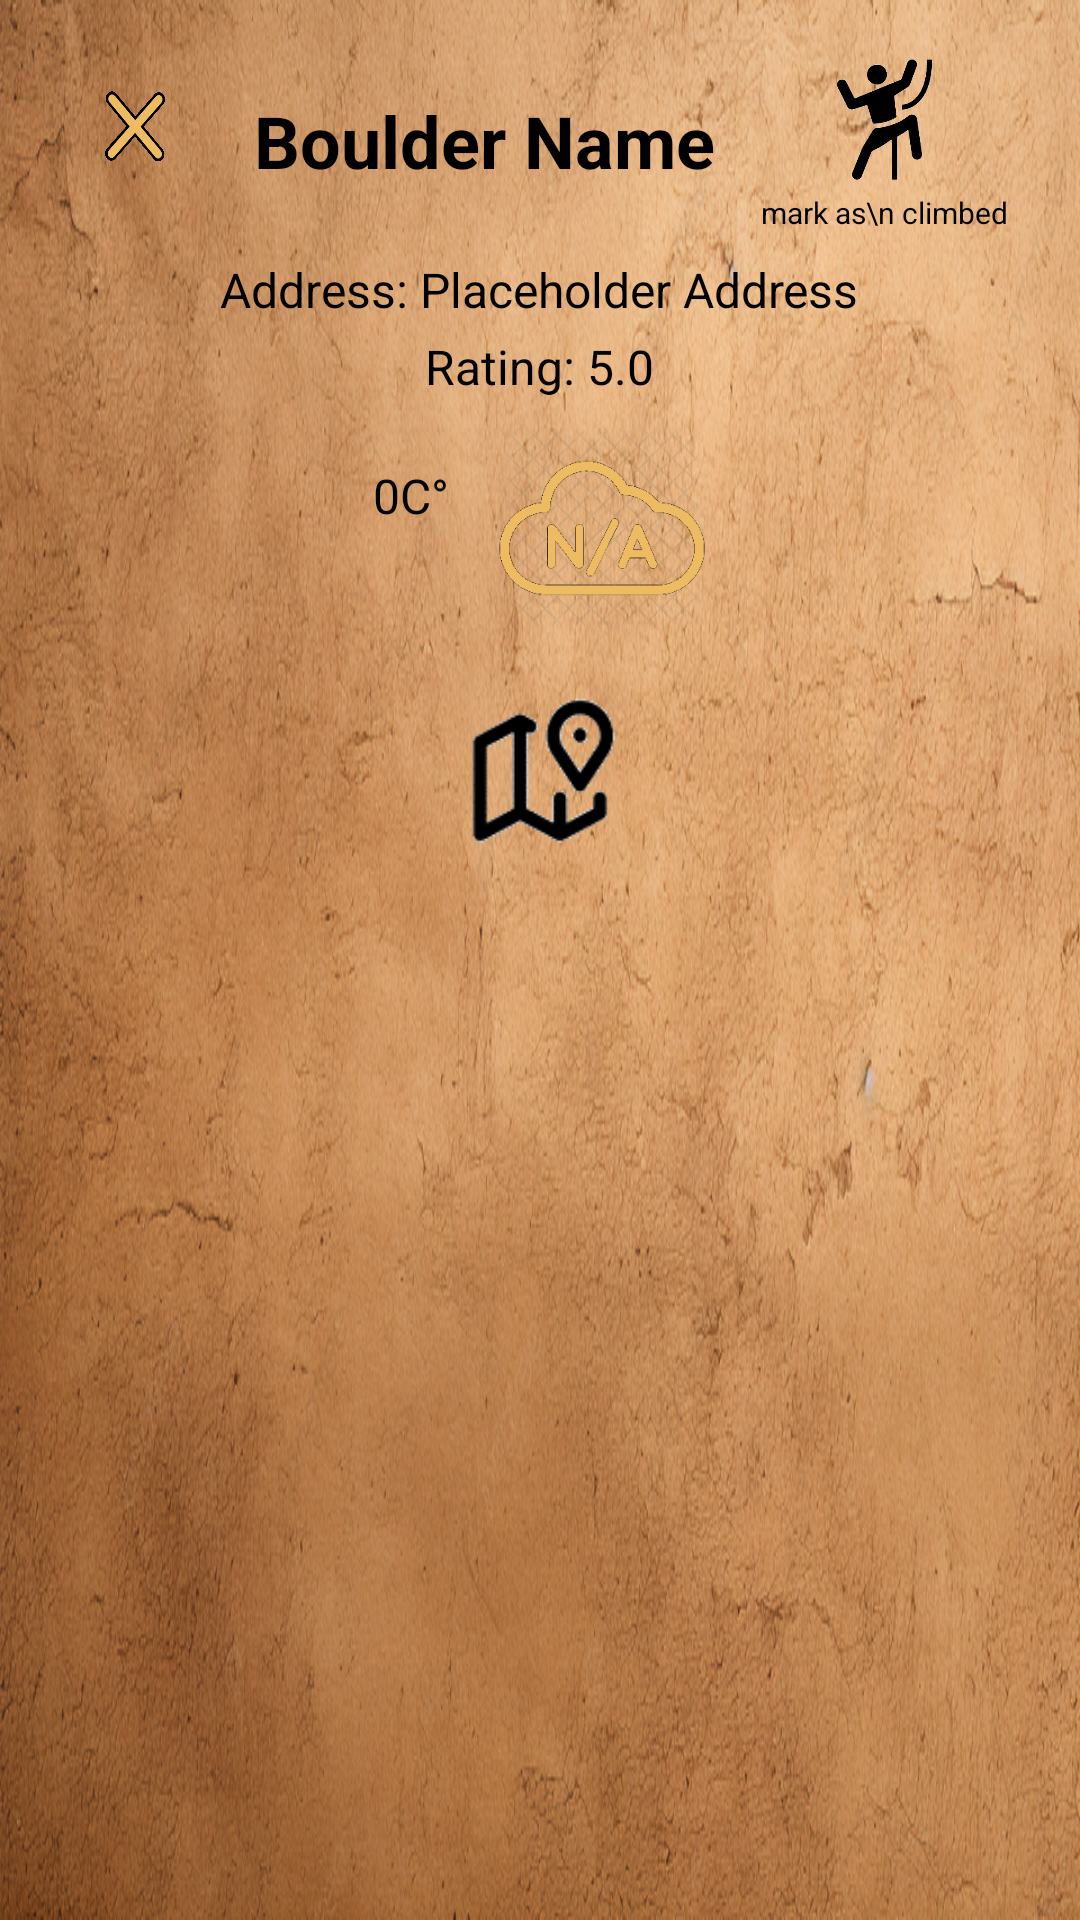

Screen size 1080px x 1920px. Icon name, then its center in pixels as point (x, y):
na weather: point (602, 529)
navigate to boulder: point (540, 777)
